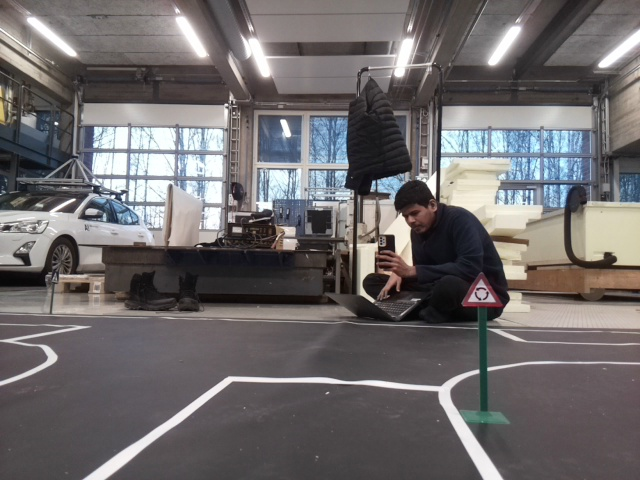Roundabout: (459, 273, 501, 306)
